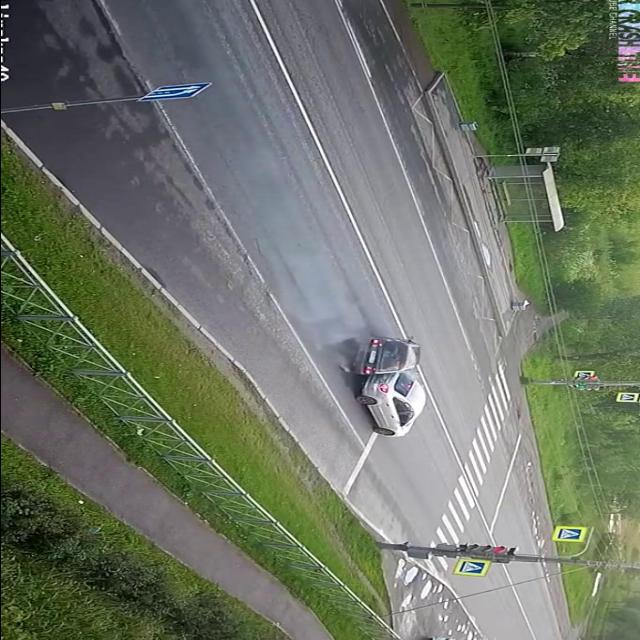accident: (326, 329, 450, 443)
